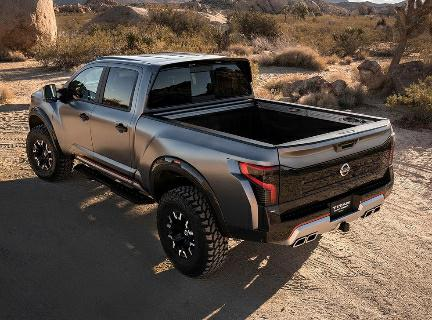日产-风雅: (21, 45, 406, 284)
